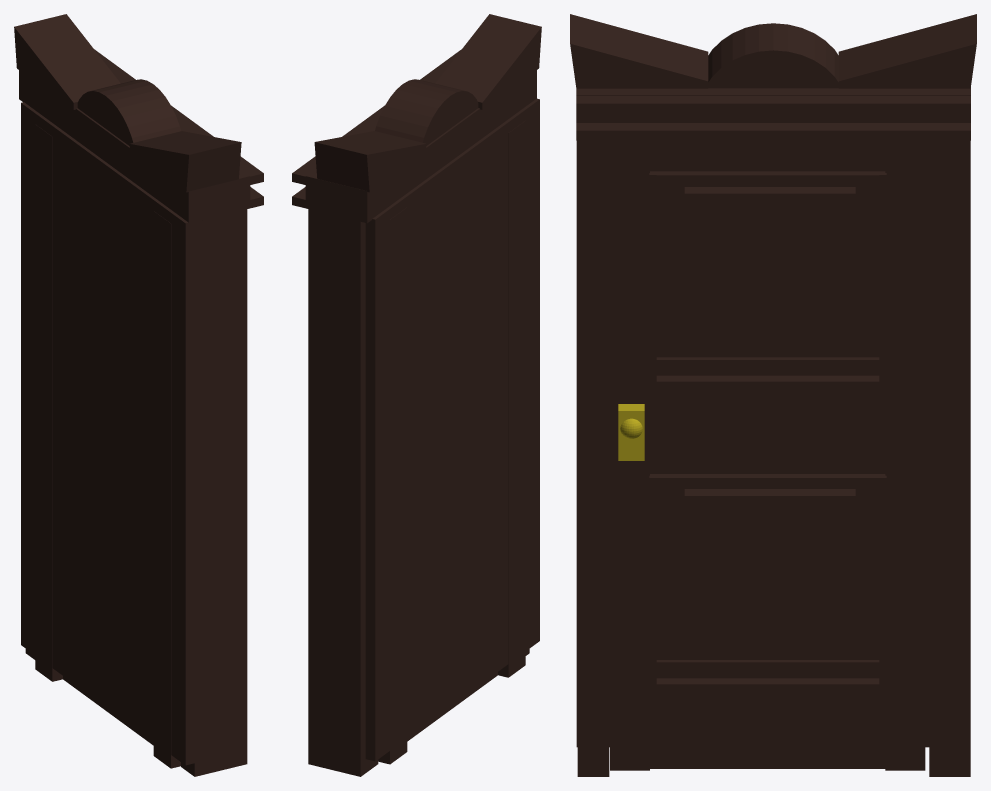
File: door.fbx
3 views of the same model, side by side, from view 1: azimuth 30°, elevation 25°; view 2: azimuth 150°, elevation 25°; view 3: azimuth 270°, elevation 25° (orthographic). The views are drawn at different scales.
Parts seen in each view (by area): view 1: Cube.125, Cube.126, Cube.121, Cube.129, Cube.130, Cube.127, Cylinder.058, Cube.122, Cube.123; view 2: Cube.125, Cube.124, Cube.121, Cube.130, Cube.129, Cube.127, Cylinder.058, Cube.122; view 3: Cube.139, Cube.138, Cube.136, Cube.124, Cube.130, Cube.129, Cube.126, Cube.121, Cube.125, Cylinder.058, Cube.127, Cube.123 (+8 smaller).
Boxes of the visible parts, <box> form: Cube.125: <box>21,102,224,765</box>; Cube.126: <box>181,209,247,776</box>; Cube.121: <box>14,14,241,192</box>; Cube.129: <box>153,211,180,768</box>; Cube.130: <box>35,124,62,681</box>; Cube.127: <box>19,70,250,223</box>; Cylinder.058: <box>77,79,180,145</box>; Cube.122: <box>94,49,263,195</box>; Cube.123: <box>202,187,263,219</box>; Cube.125: <box>365,98,539,761</box>; Cube.124: <box>308,209,378,776</box>; Cube.121: <box>314,14,541,192</box>; Cube.130: <box>378,207,407,764</box>; Cube.129: <box>498,120,525,677</box>; Cube.127: <box>305,70,536,223</box>; Cylinder.058: <box>375,79,478,145</box>; Cube.122: <box>292,49,461,191</box>; Cube.139: <box>650,140,885,768</box>; Cube.138: <box>684,187,855,348</box>; Cube.136: <box>684,489,855,650</box>; Cube.124: <box>929,140,970,776</box>; Cube.130: <box>885,140,925,770</box>; Cube.129: <box>610,140,649,770</box>; Cube.126: <box>577,140,609,776</box>; Cube.121: <box>570,14,976,88</box>; Cube.125: <box>576,140,929,747</box>; Cylinder.058: <box>708,23,838,88</box>; Cube.127: <box>576,87,970,122</box>; Cube.123: <box>576,123,970,140</box>.
Bounding box in the file's own units: 323 × 2459 × 1245.
